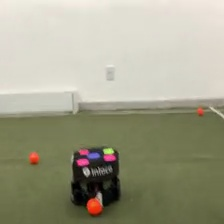ball: (85, 196, 105, 217), (27, 150, 40, 164), (195, 106, 205, 116)
goal: (1, 89, 80, 115)
robot: (67, 143, 123, 208)
